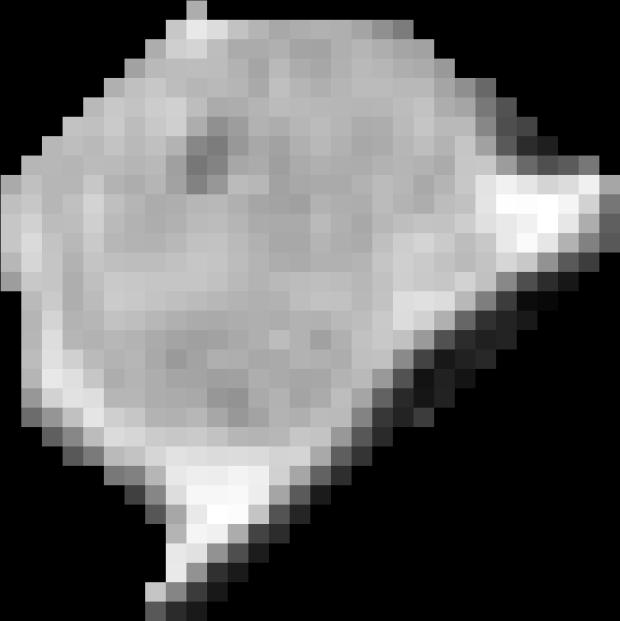tumor_moderate_chance: (1, 0, 620, 621)
